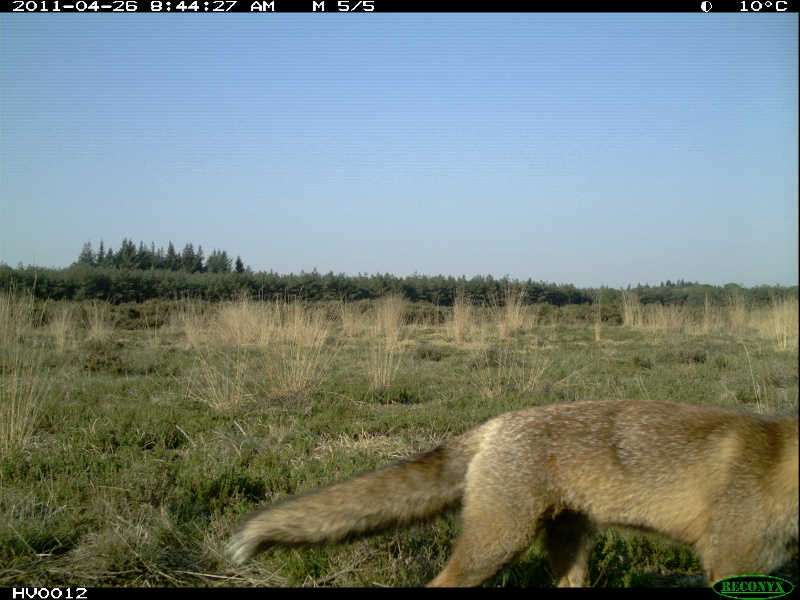fox: (221, 391, 800, 590)
